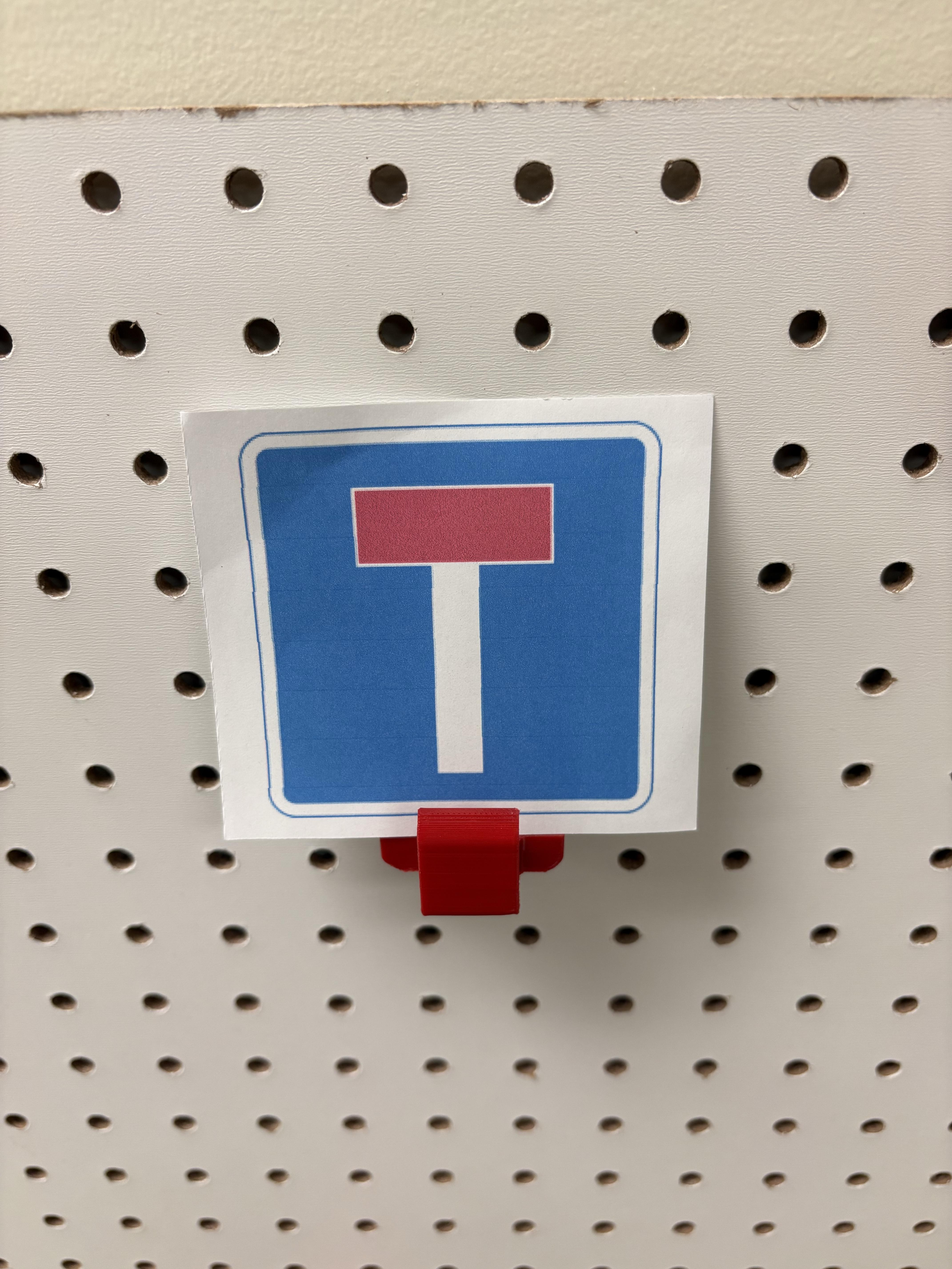Dead End: (136, 534, 533, 1140)
